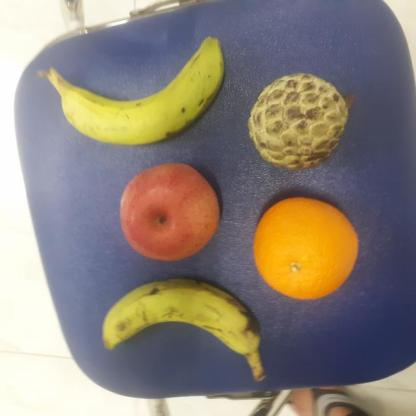annona: (244, 71, 358, 171)
apple: (116, 161, 223, 265)
banana: (43, 35, 225, 146), (96, 272, 266, 379)
orange: (250, 194, 360, 302)
